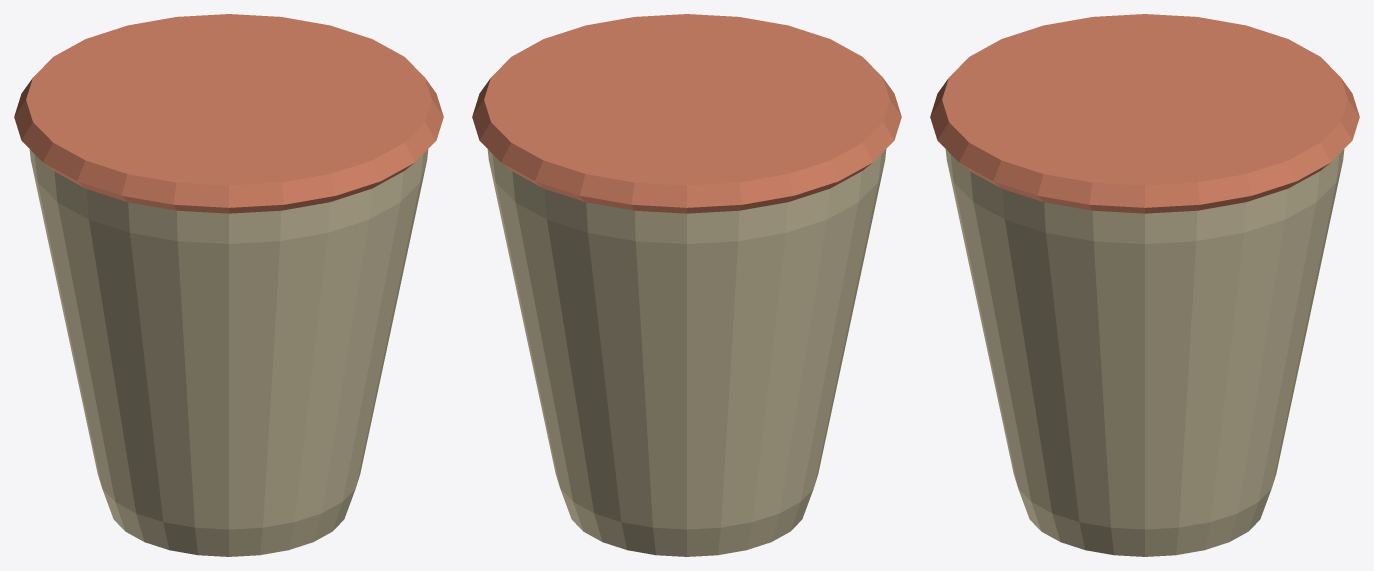
Rendered from litter_cup.glb.
3 renders of one model, left to right at view 1: azimuth 30°, elevation 25°; view 2: azimuth 150°, elevation 25°; view 3: azimuth 270°, elevation 25°, orthographic.
Visible parts, largest first — view 1: Paper cup, Paper cup rolled rim; view 2: Paper cup, Paper cup rolled rim; view 3: Paper cup, Paper cup rolled rim.
Boxes of the visible parts, x1,y1,x2,y2 form: Paper cup: (29, 149, 428, 556); Paper cup rolled rim: (14, 14, 443, 213); Paper cup: (487, 149, 886, 556); Paper cup rolled rim: (472, 14, 901, 213); Paper cup: (945, 149, 1344, 556); Paper cup rolled rim: (930, 14, 1359, 213).
Size of the model in its own units: 0.18 by 0.188 by 0.18.
